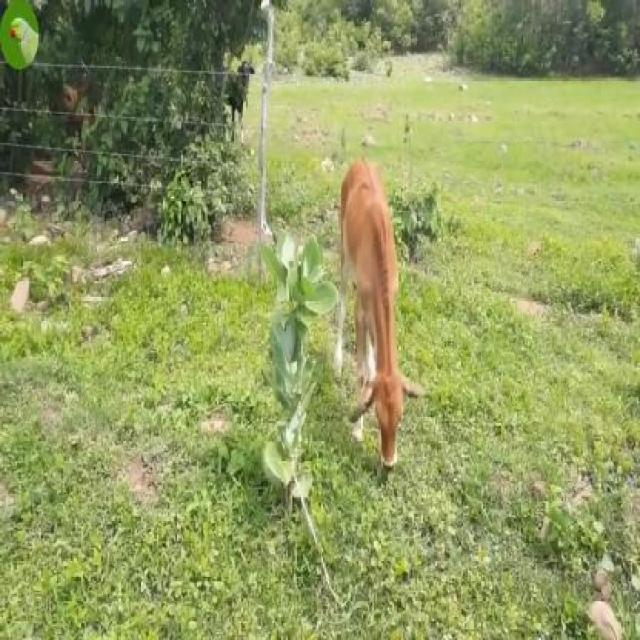Cow: (337, 156, 425, 472)
